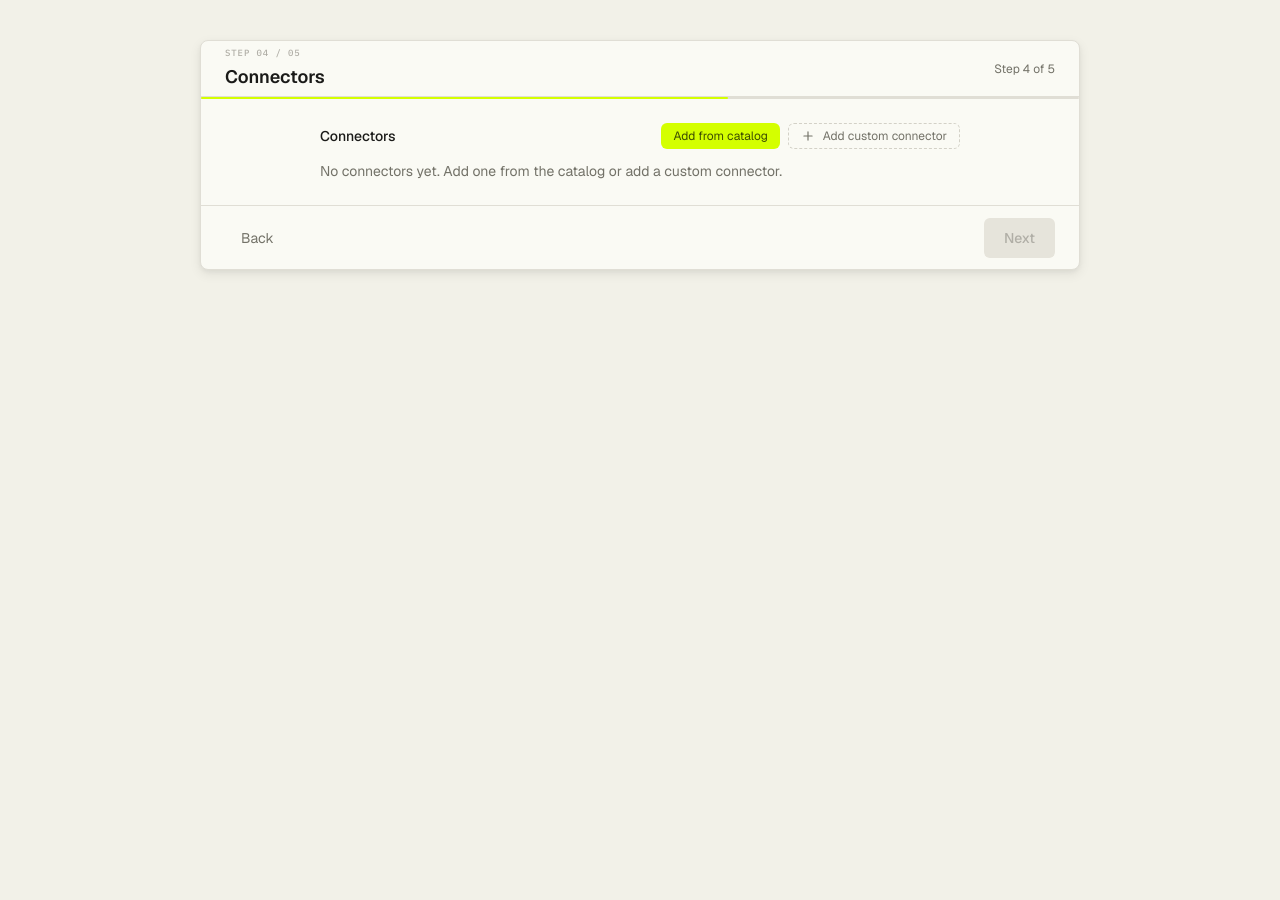
Scenario: ConnectorsStep › renders the catalog grid when 'Add from catalog' is clicked
Click the button "Add from catalog". click: (721, 136)
box: x1=661 y1=123 x2=780 y2=149
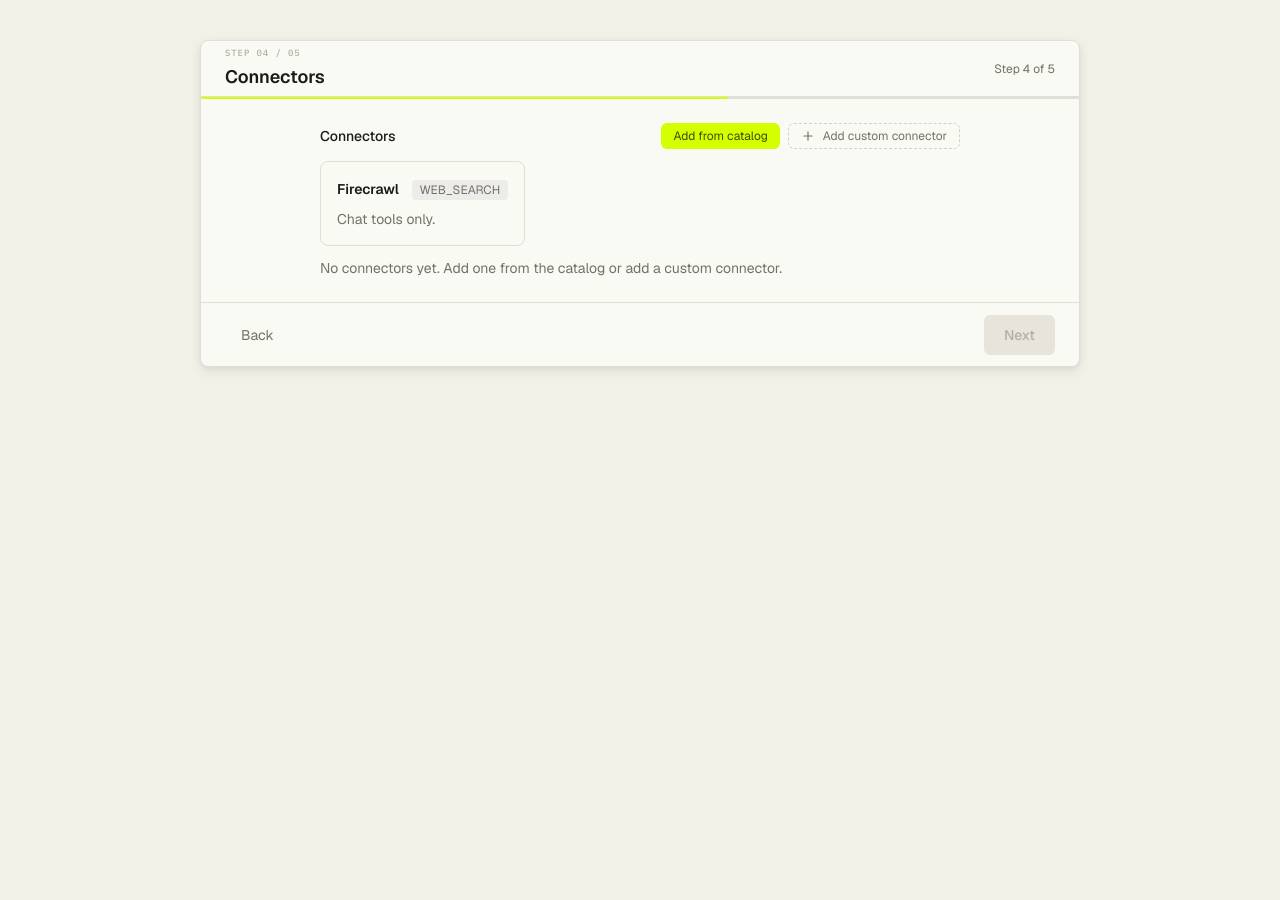
expect the text "Firecrawl" is shown: met, box x1=337 y1=178 x2=399 y2=201
